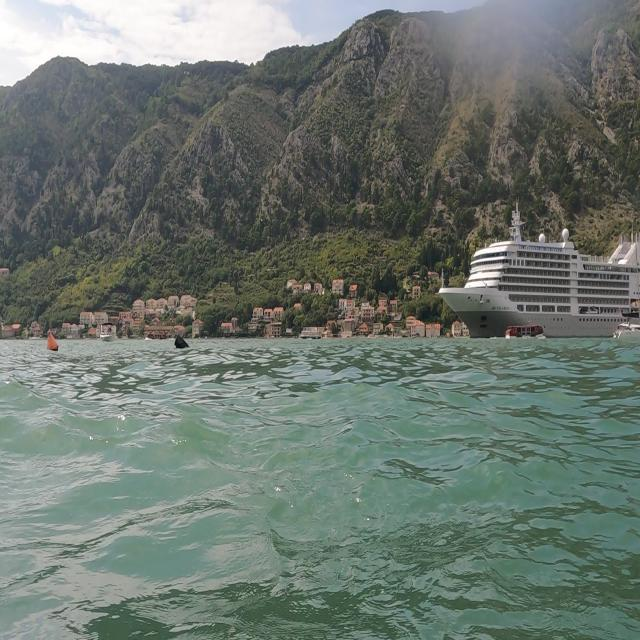boat: (436, 196, 638, 342)
buoy: (167, 332, 200, 364), (40, 324, 69, 360)
